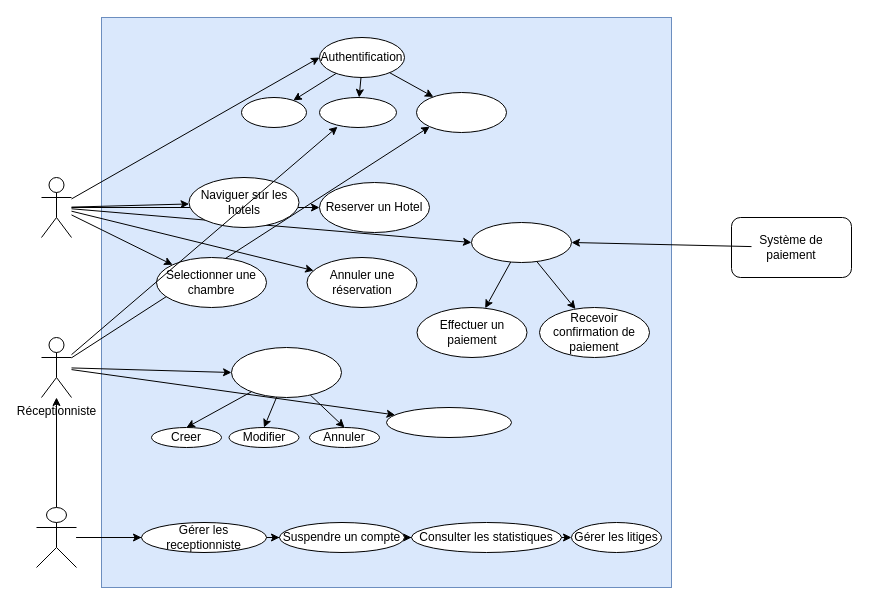
The diagram is 869 pixels wide and 606 high, and some of its shapes have lost their labels. The box of each missing label's shape, as (x1, y1, x2, y2) in pixels:
Administrateur: (36, 506, 76, 568)
client: (40, 176, 72, 238)
Gerer factures: (386, 406, 512, 438)
Gestion des reservations: (230, 346, 342, 398)
Paiement: (470, 222, 572, 262)
Se connecter: (318, 96, 396, 128)
Se déconnecter: (416, 92, 506, 132)
S’inscrire: (240, 96, 306, 128)
